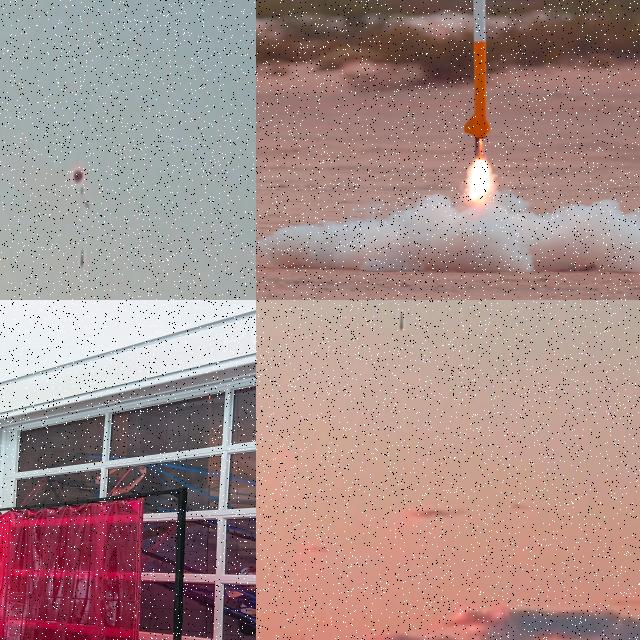Rocket: (462, 0, 493, 140), (399, 310, 404, 332), (80, 248, 84, 268)
